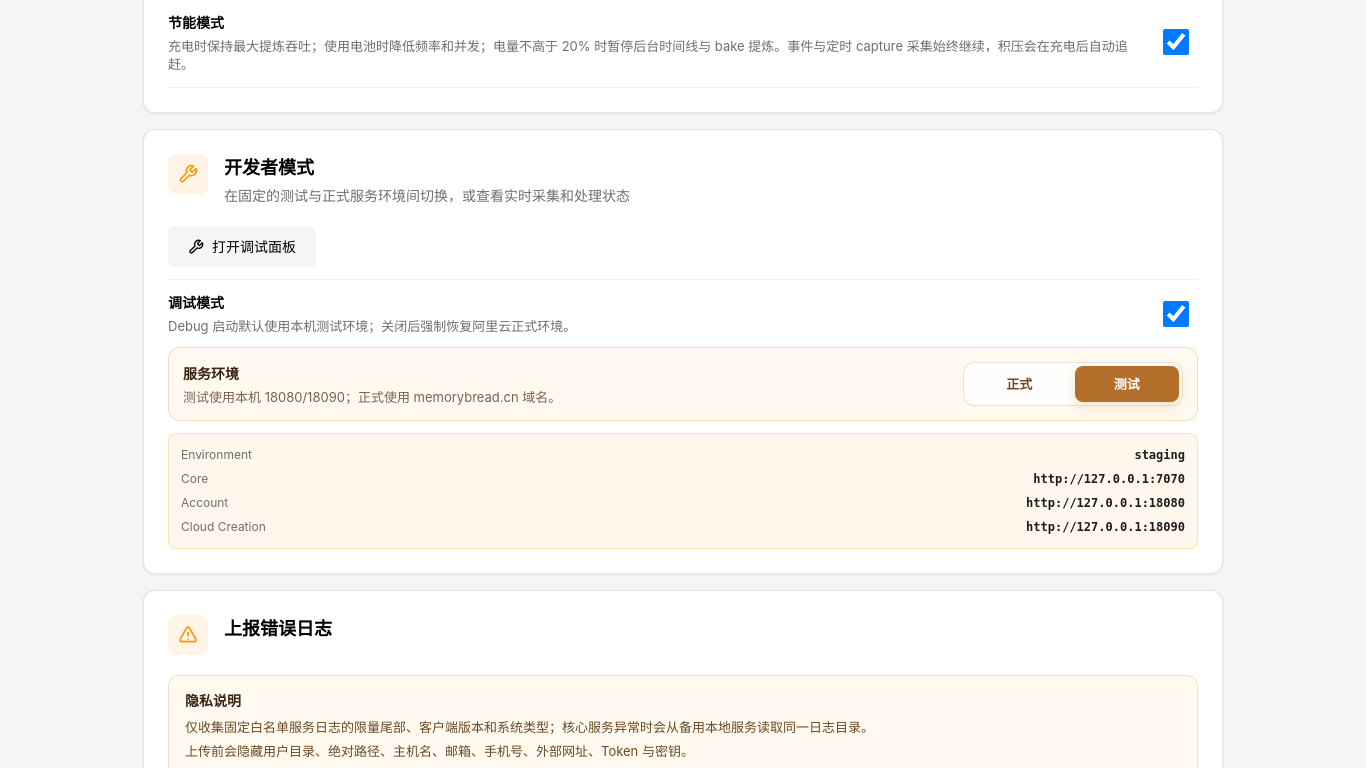
Test case: Settings debug mode visibility › 在开发者模式中切换正式和测试服务环境
(page scrolled)
Click the button with test id "service-environment-production" at x=1019, y=384, box [967,366,1072,402]
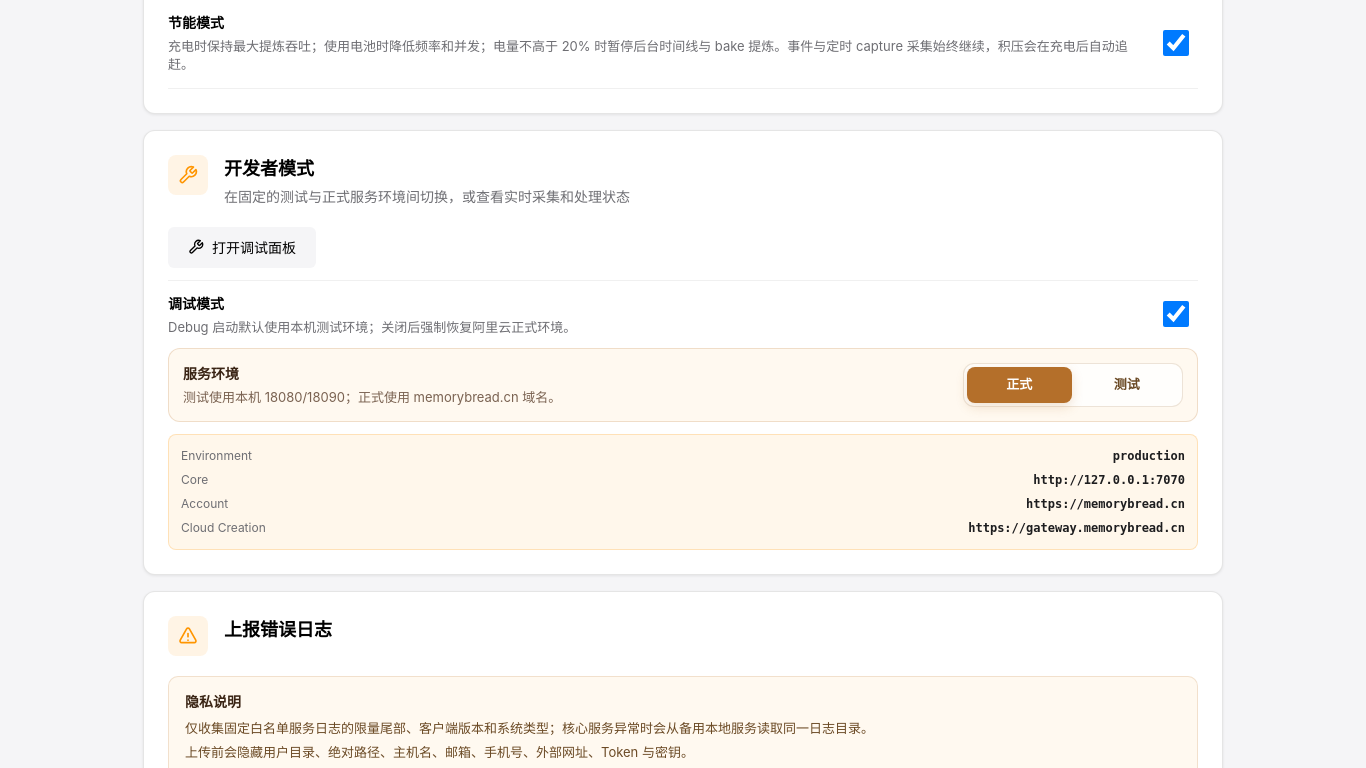
Check: the text "production" is shown, box [1113,447,1185,465]
Check: the text "https://memorybread.cn" is shown, box [1026,495,1185,513]
Check: the text "https://gateway.memorybread.cn" is shown, box [968,519,1185,537]
